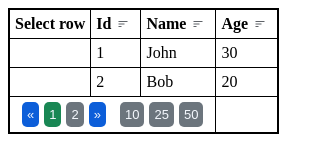
it: Table component › Sorts data by column
Click the text "Age".
click(235, 24)  # box left=222, top=15, right=248, bottom=33
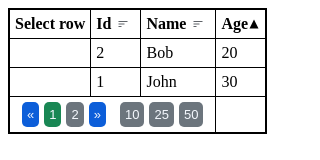
Now the row "2 Bob 20" is shown, box left=9, top=38, right=266, bottom=68
Now the row "1 John 30" is shown, box left=9, top=68, right=266, bottom=96
Click the text "Age".
click(235, 24)  # box left=222, top=15, right=248, bottom=33
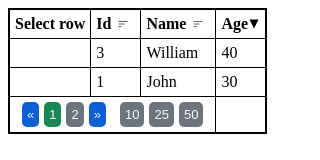
Now the row "1 John 30" is shown, box left=9, top=68, right=266, bottom=96
Now the row "3 William 40" is shown, box left=9, top=38, right=266, bottom=68
